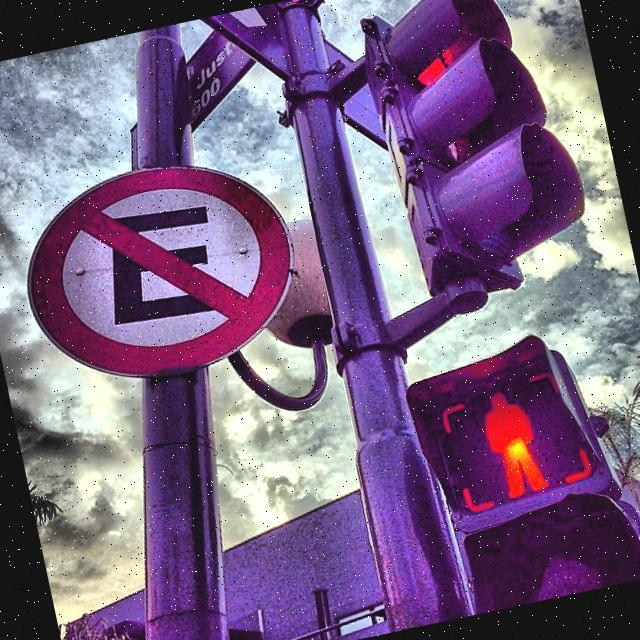red_light: (472, 380, 554, 506)
